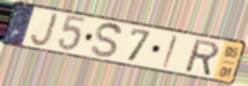5: (56, 14, 88, 54)
7: (125, 27, 154, 64)
I: (160, 34, 179, 71)
J: (29, 12, 60, 48)
R: (184, 38, 221, 78)
S: (90, 22, 123, 60)
